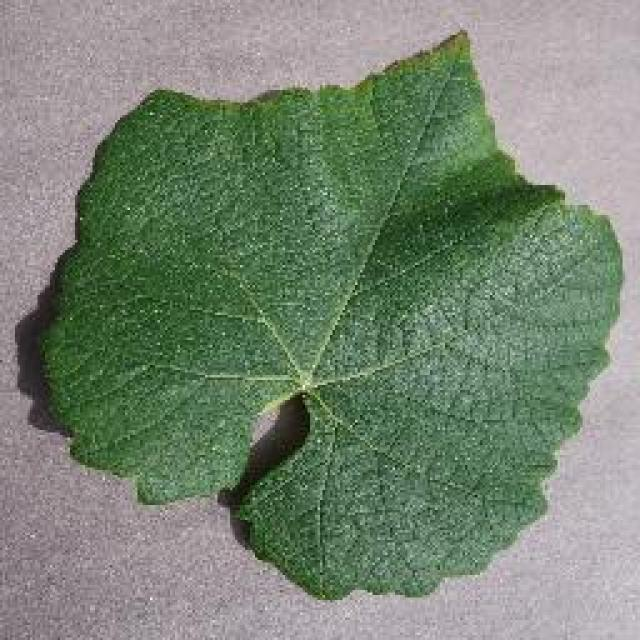Grape___healthy: (29, 27, 628, 603)
